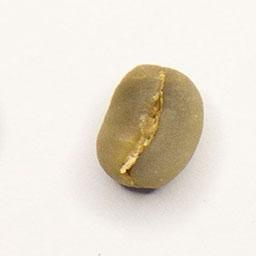premium: (93, 60, 207, 192)
